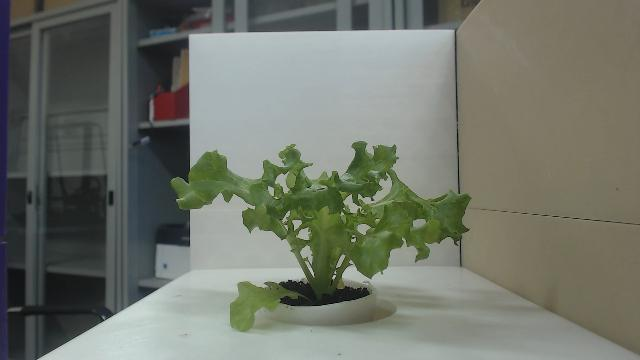Vegetative Stage: (168, 140, 472, 334)
